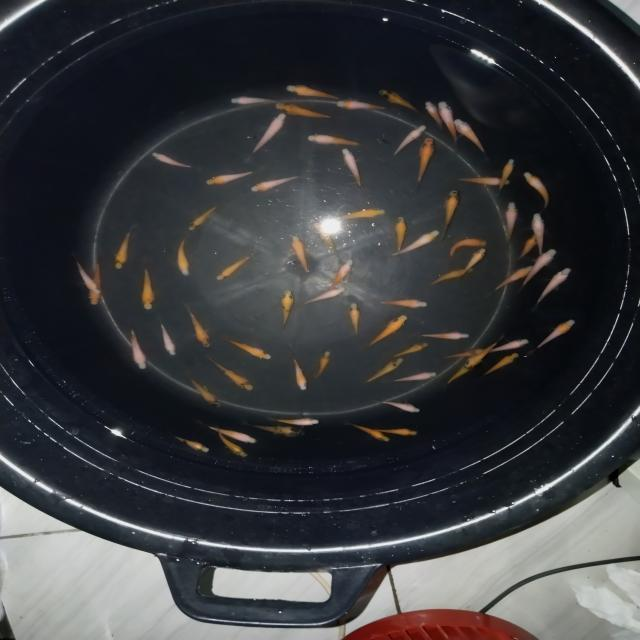nila: (515, 246, 563, 294), (238, 416, 314, 444), (248, 111, 290, 160), (206, 354, 256, 394), (531, 316, 580, 356), (449, 114, 492, 158), (530, 264, 573, 308), (188, 420, 258, 447), (390, 227, 444, 261), (363, 311, 412, 348), (182, 197, 226, 238), (272, 98, 341, 124), (486, 263, 536, 298), (372, 86, 427, 117), (333, 149, 372, 192), (180, 373, 224, 411), (434, 98, 466, 150), (355, 356, 407, 388), (410, 134, 438, 193), (461, 334, 506, 370), (180, 302, 213, 351), (214, 250, 260, 285), (70, 252, 104, 298), (248, 172, 308, 198), (210, 429, 254, 464), (124, 321, 153, 373), (422, 264, 472, 294), (110, 221, 140, 271), (280, 82, 348, 104), (202, 163, 259, 189), (456, 244, 492, 284), (312, 219, 342, 266), (522, 168, 554, 212), (220, 336, 274, 362), (304, 130, 370, 151), (442, 233, 492, 260), (344, 419, 392, 447), (390, 125, 430, 158), (438, 360, 482, 390), (166, 430, 212, 458), (83, 254, 106, 308), (384, 366, 440, 388), (298, 283, 346, 308), (288, 232, 314, 278), (150, 146, 193, 172), (441, 187, 463, 237), (155, 316, 181, 358), (484, 351, 524, 378), (500, 198, 520, 250), (528, 211, 548, 263), (374, 396, 426, 416), (487, 333, 532, 356), (328, 256, 357, 291), (174, 230, 194, 280), (332, 98, 398, 113), (336, 205, 391, 223), (418, 327, 476, 344), (452, 172, 512, 188), (138, 265, 158, 313), (391, 215, 411, 262), (373, 296, 431, 312), (495, 156, 518, 196), (225, 94, 288, 108), (290, 352, 311, 394), (422, 98, 446, 134), (366, 426, 424, 440), (278, 286, 296, 330), (516, 232, 542, 262), (388, 341, 432, 358), (443, 347, 488, 363), (312, 350, 336, 380), (347, 299, 364, 340), (270, 414, 323, 426)
